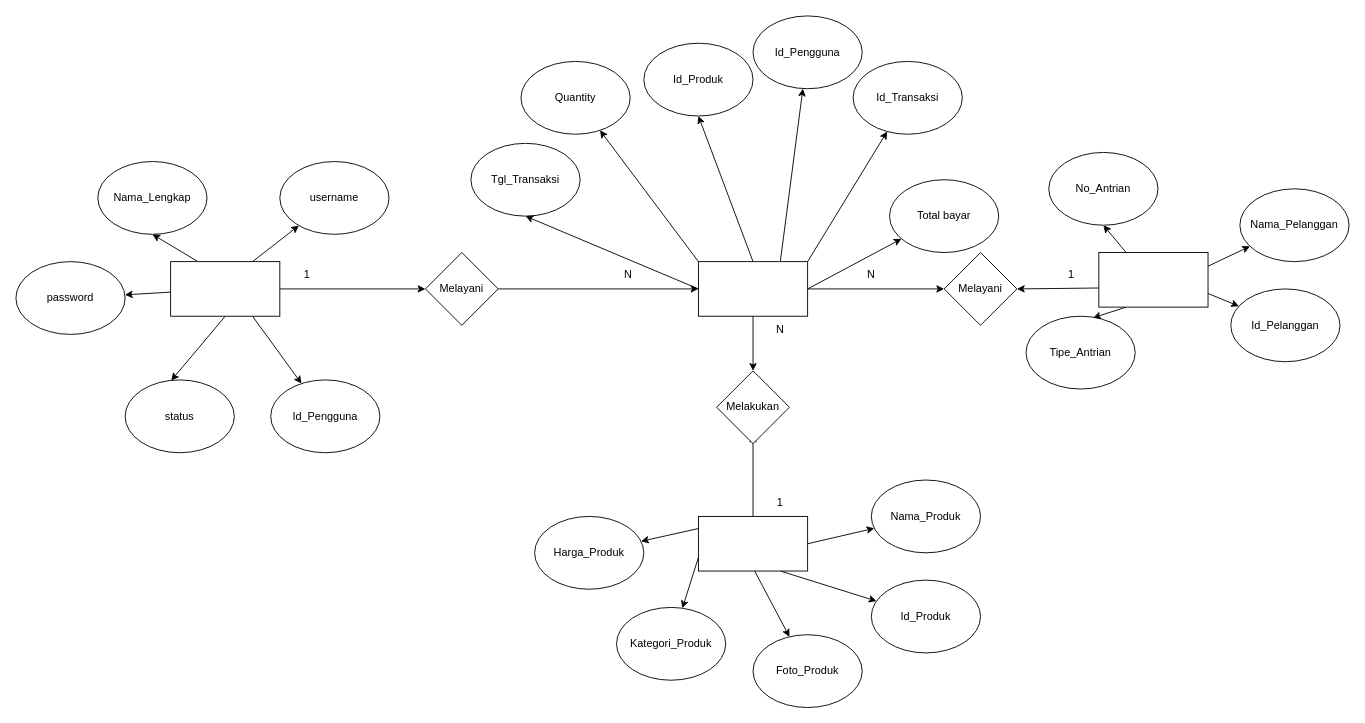
Some shapes in this 1365 by 723 pixel diagram are drawn without their labels. Each missing label, with the box of its shape:
Pelanggan: (1098, 252, 1208, 307)
Pengguna: (170, 261, 280, 316)
Produk: (698, 516, 808, 571)
Transaksi: (698, 261, 808, 316)
